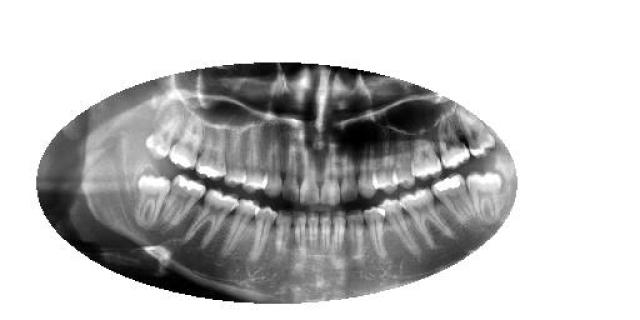Fillings: (161, 174, 205, 228), (432, 175, 477, 223), (168, 118, 204, 172), (198, 122, 226, 180)
